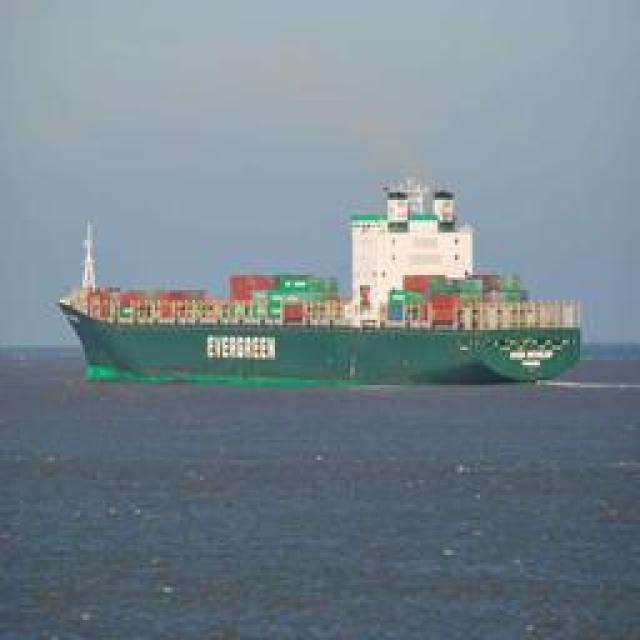Ship: (63, 171, 588, 379)
